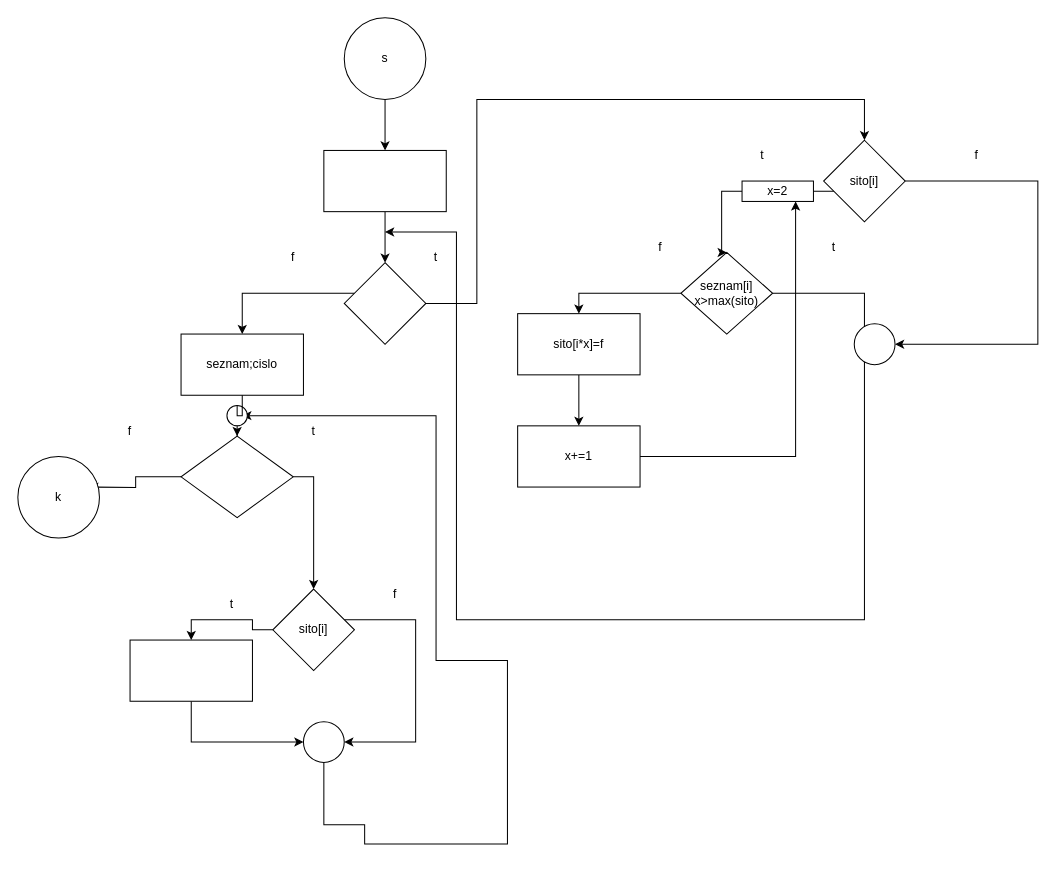
Some shapes in this 1064 by 870 pixel diagram are drawn without their labels. The box of each missing label's shape, as (x1, y1, x2, y2) in pixels:
existuje seznam [dalsi]: (343, 262, 426, 344)
existuje seznam[dalsi]: (180, 435, 293, 518)
seznam;sito: (323, 149, 446, 212)
vypis seznam[i]: (129, 639, 252, 701)
